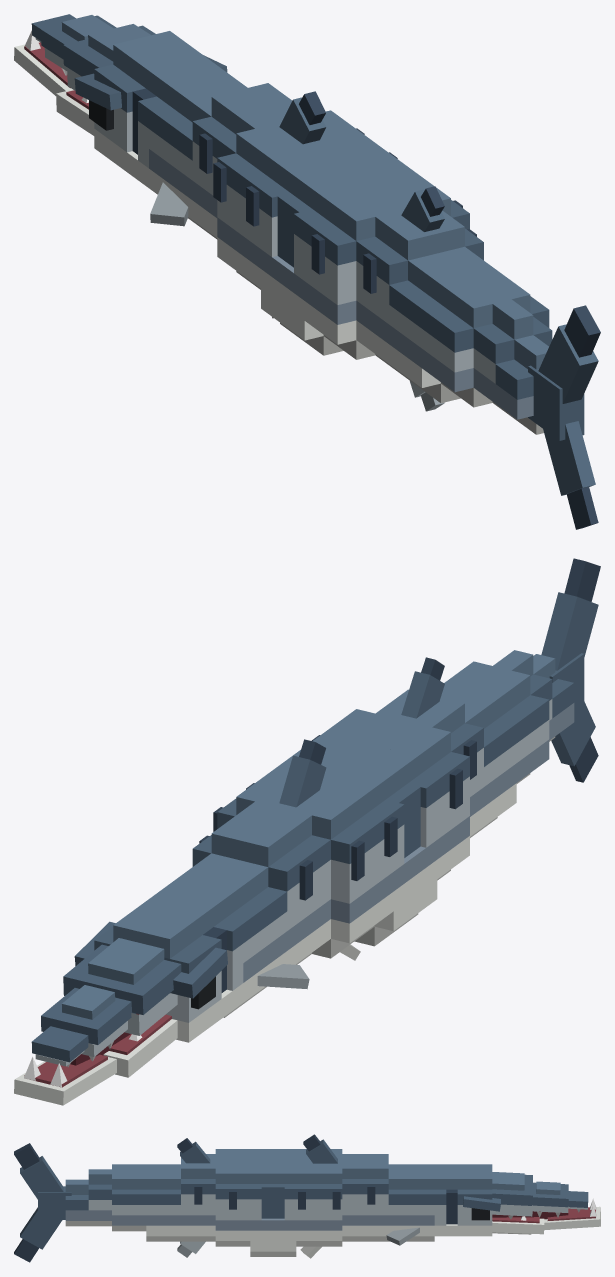
File: Barracuda.obj
The picture shows the model from 3 angles, top to bottom: view 1: azimuth 30°, elevation 25°; view 2: azimuth 150°, elevation 25°; view 3: azimuth 270°, elevation 25°; orthographic projection. The views are drawn at different scales.
Parts seen in each view (by area): view 1: S4, Head, S5, S1, S3, S2, Tail, S6; view 2: Head, S1, S2, S4, S3, S5, Tail, S6; view 3: Head, S1, S4, S3, S5, S2, Tail, S6.
Part boxes in pixels (x1,y1,x2,y2): S4: [304, 174, 483, 411]; Head: [14, 14, 227, 187]; S5: [389, 246, 549, 407]; S1: [149, 71, 292, 239]; S3: [261, 142, 417, 355]; S2: [213, 91, 397, 318]; Tail: [528, 305, 600, 529]; S6: [473, 299, 552, 434]; Head: [14, 885, 243, 1105]; S1: [168, 801, 330, 1017]; S2: [213, 739, 397, 960]; S4: [311, 657, 483, 880]; S3: [280, 733, 437, 946]; S5: [441, 661, 549, 837]; Tail: [541, 558, 600, 782]; S6: [493, 650, 574, 741]; Head: [434, 1164, 600, 1236]; S1: [342, 1154, 434, 1245]; S4: [177, 1138, 250, 1257]; S3: [250, 1149, 296, 1256]; S5: [112, 1164, 180, 1241]; S2: [296, 1134, 342, 1258]; Tail: [14, 1143, 71, 1262]; S6: [65, 1169, 111, 1226].
Size of the model in its own units: 3.37 by 4.82 by 20.36.
Materials: 1 (1 with a texture image).
